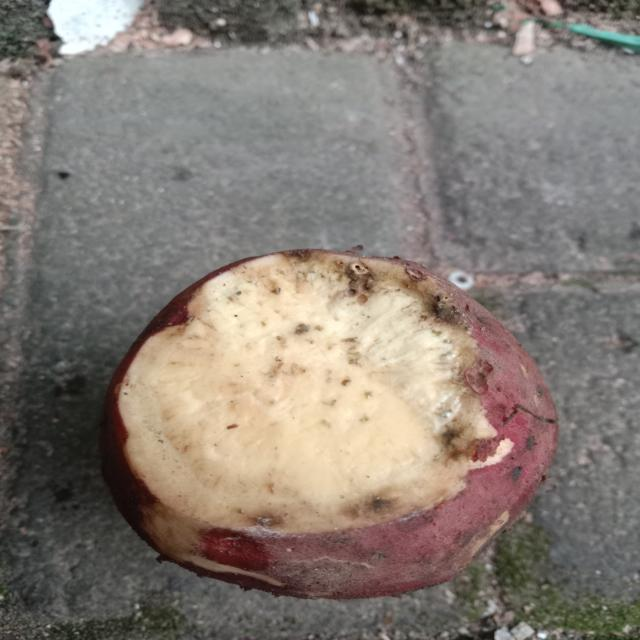Sick Sweet Potato_Tuber Rot: (118, 250, 495, 532)
